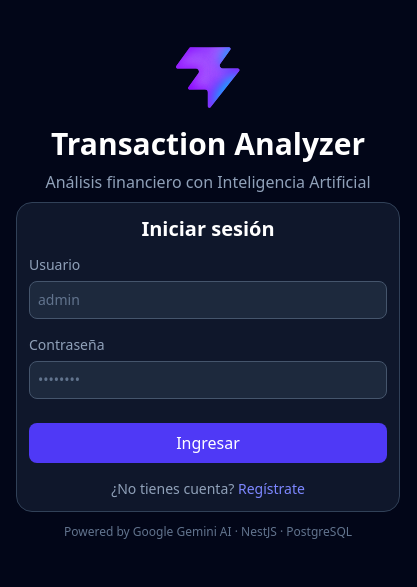
Test: LoginPage › shows error when password is empty
Type "juan" into the field with placeholder "admin" at (208, 300), box [29,281,387,319]
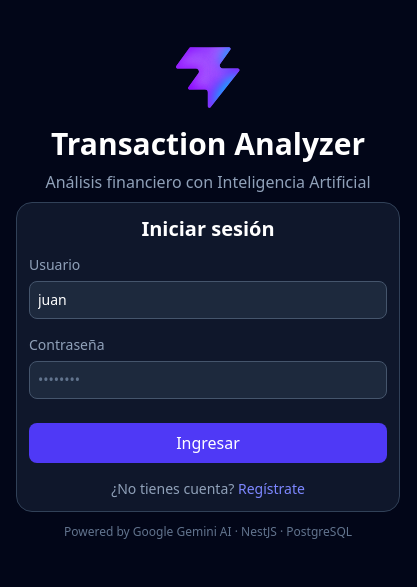
Click the button "Ingresar" at (208, 443), box [29,423,387,463]
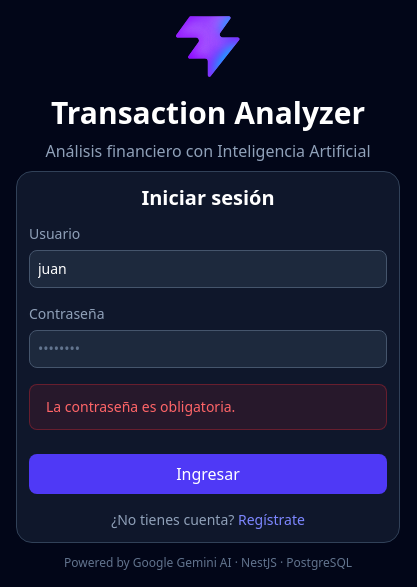
Expected: the text "La contraseña es obligatoria." is shown, [29,384,387,430]
